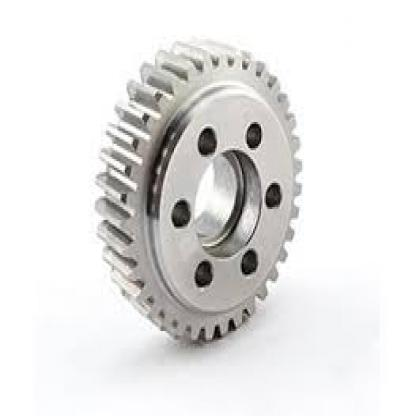FOD: (86, 24, 317, 353)
